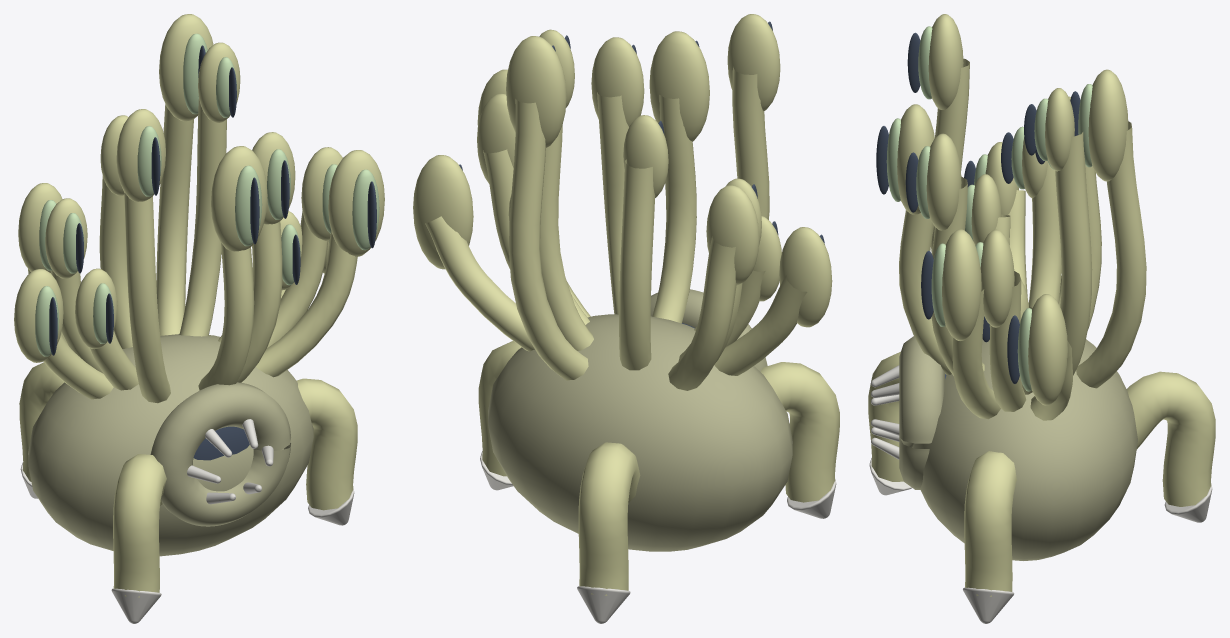
The model's file is bio_eye_orchard_10_near.glb.
The picture shows the model from 3 angles, left to right: view 1: azimuth 30°, elevation 25°; view 2: azimuth 150°, elevation 25°; view 3: azimuth 270°, elevation 25°; orthographic projection. The views are drawn at different scales.
Visible parts, largest first — view 1: Rooted muscular caudex, Raised oral lip, Asymmetric ocular branch.011, Asymmetric ocular branch.007, Asymmetric ocular branch.005, Asymmetric ocular branch.002, Asymmetric ocular branch.003, Crooked support.001, Crooked support.002, Asymmetric ocular branch.010, Asymmetric ocular branch.013, Asymmetric ocular branch.006 (+22 smaller); view 2: Rooted muscular caudex, Asymmetric ocular branch.011, Asymmetric ocular branch.002, Asymmetric ocular branch.006, Asymmetric ocular branch.008, Asymmetric ocular branch.001, Crooked support, Asymmetric ocular branch.010, Asymmetric ocular branch.007, Asymmetric ocular branch.004, Crooked support.001, Asymmetric ocular branch.003 (+8 smaller); view 3: Rooted muscular caudex, Asymmetric ocular branch.011, Asymmetric ocular branch.003, Crooked support, Crooked support.002, Asymmetric ocular branch.005, Asymmetric ocular branch.002, Asymmetric ocular branch.013, Raised oral lip, Asymmetric ocular branch.008, Asymmetric ocular branch.007, Asymmetric ocular branch.010 (+24 smaller).
Part boxes in pixels (x1,y1,x2,y2): Rooted muscular caudex: [28, 334, 313, 556]; Raised oral lip: [150, 382, 290, 526]; Asymmetric ocular branch.011: [156, 14, 213, 335]; Asymmetric ocular branch.007: [116, 109, 170, 403]; Asymmetric ocular branch.005: [256, 150, 384, 377]; Asymmetric ocular branch.002: [198, 146, 267, 390]; Asymmetric ocular branch.003: [179, 42, 240, 336]; Crooked support.001: [113, 454, 166, 597]; Crooked support.002: [296, 378, 357, 510]; Asymmetric ocular branch.010: [237, 132, 295, 382]; Asymmetric ocular branch.013: [267, 147, 342, 347]; Asymmetric ocular branch.006: [99, 115, 132, 348]; Rooted muscular caudex: [488, 314, 792, 551]; Asymmetric ocular branch.011: [506, 36, 588, 380]; Asymmetric ocular branch.002: [649, 31, 709, 323]; Asymmetric ocular branch.006: [619, 115, 668, 370]; Asymmetric ocular branch.008: [413, 155, 534, 351]; Asymmetric ocular branch.001: [668, 185, 759, 390]; Crooked support: [578, 442, 640, 595]; Asymmetric ocular branch.010: [591, 37, 644, 314]; Asymmetric ocular branch.007: [694, 14, 780, 330]; Asymmetric ocular branch.004: [714, 227, 832, 375]; Crooked support.001: [760, 362, 839, 502]; Asymmetric ocular branch.003: [539, 29, 593, 350]; Rooted muscular caudex: [912, 339, 1137, 560]; Asymmetric ocular branch.011: [1076, 69, 1146, 388]; Asymmetric ocular branch.003: [1045, 88, 1092, 375]; Crooked support: [1126, 371, 1215, 506]; Crooked support.002: [964, 451, 1016, 596]; Asymmetric ocular branch.005: [942, 229, 1000, 419]; Asymmetric ocular branch.002: [897, 104, 951, 374]; Asymmetric ocular branch.013: [980, 229, 1026, 411]; Raised oral lip: [899, 336, 944, 489]; Asymmetric ocular branch.008: [1028, 294, 1072, 420]; Asymmetric ocular branch.007: [928, 14, 969, 253]; Asymmetric ocular branch.010: [926, 133, 984, 375].
Bounding box in the file's own units: 1.71 × 2.19 × 1.37.
